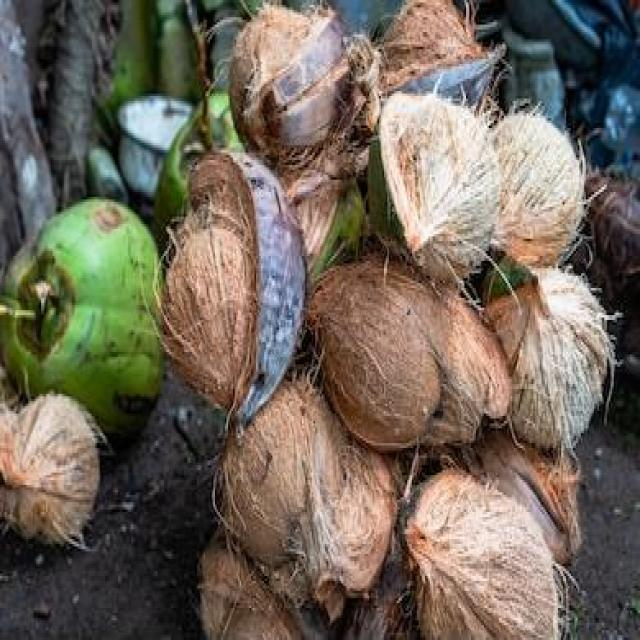coconut: (2, 196, 160, 411), (414, 490, 568, 640), (499, 272, 615, 451), (156, 223, 255, 415), (407, 102, 496, 276), (493, 109, 589, 263), (0, 396, 102, 538)
